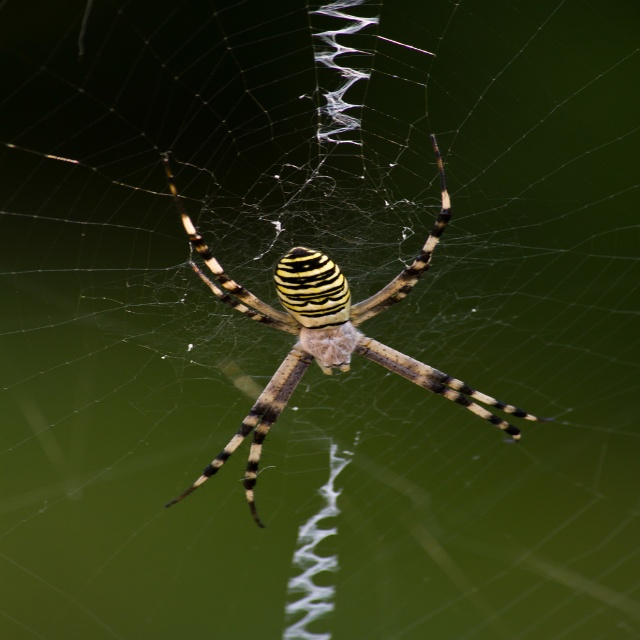Spider: (162, 133, 559, 529)
